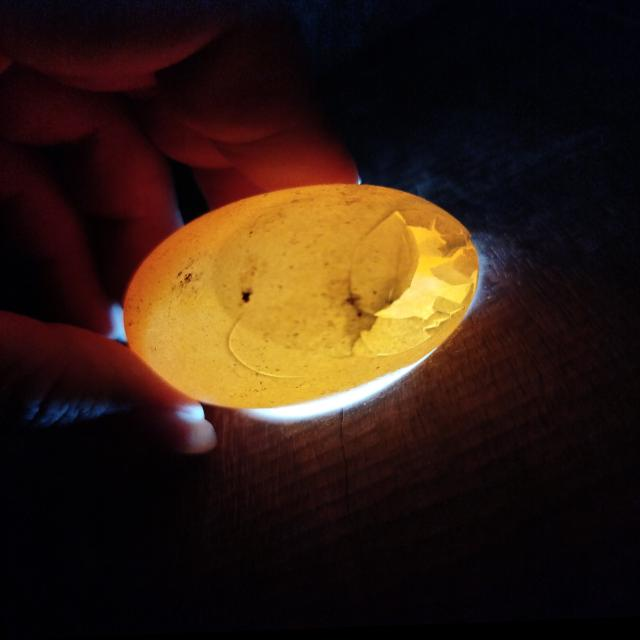Rachadura: (337, 210, 479, 360)
